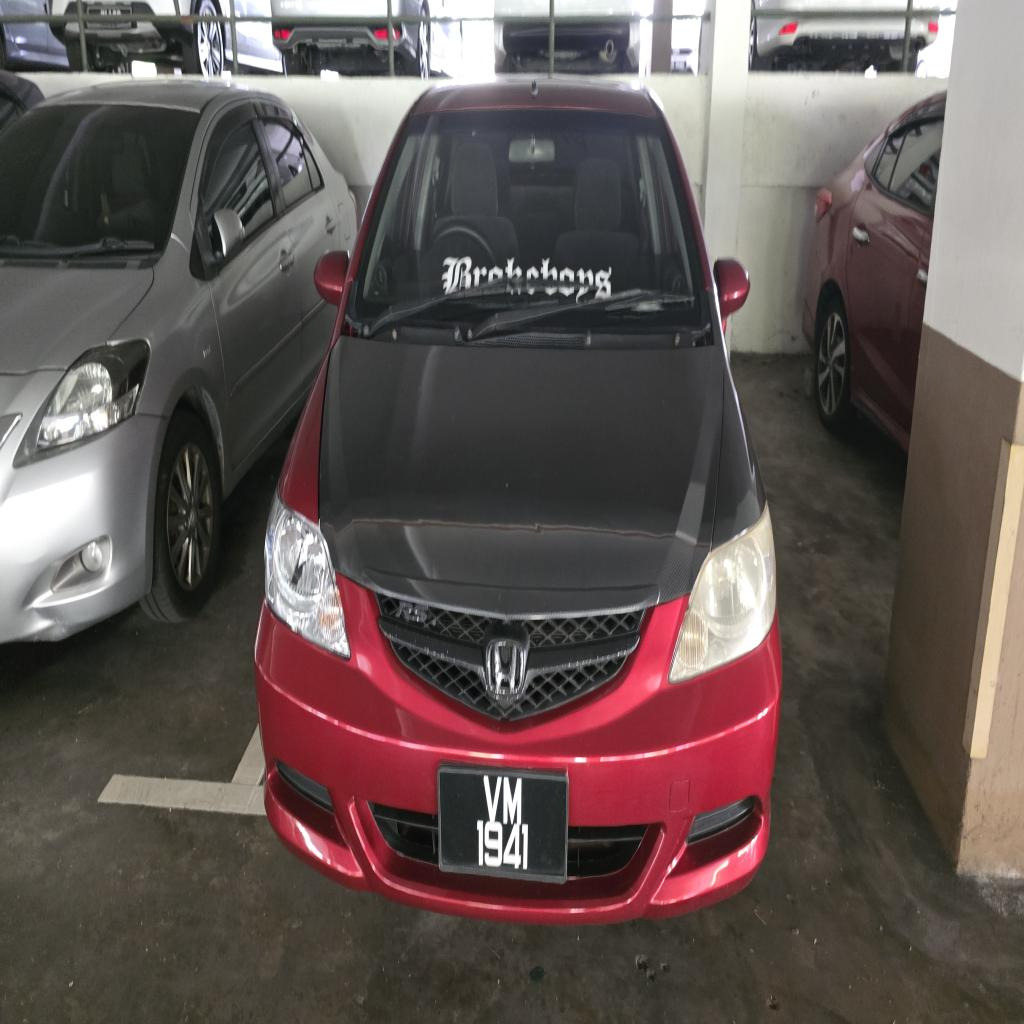car: (256, 80, 781, 922)
car plate: (439, 766, 567, 882)
